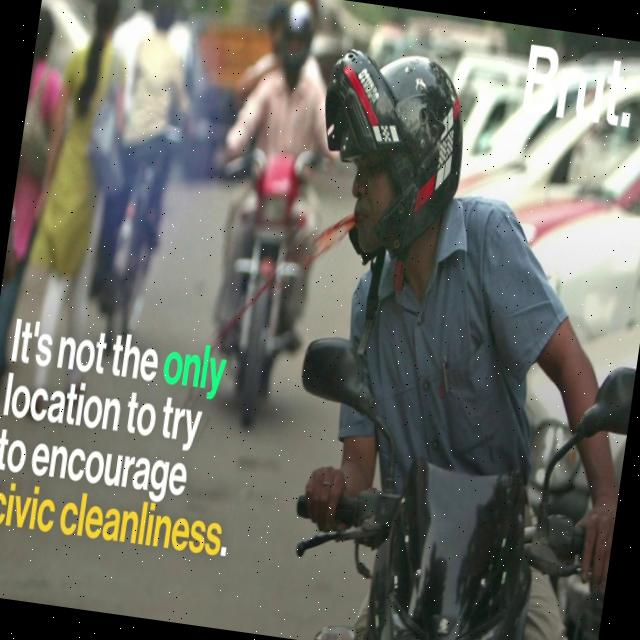spit: (215, 178, 382, 370)
